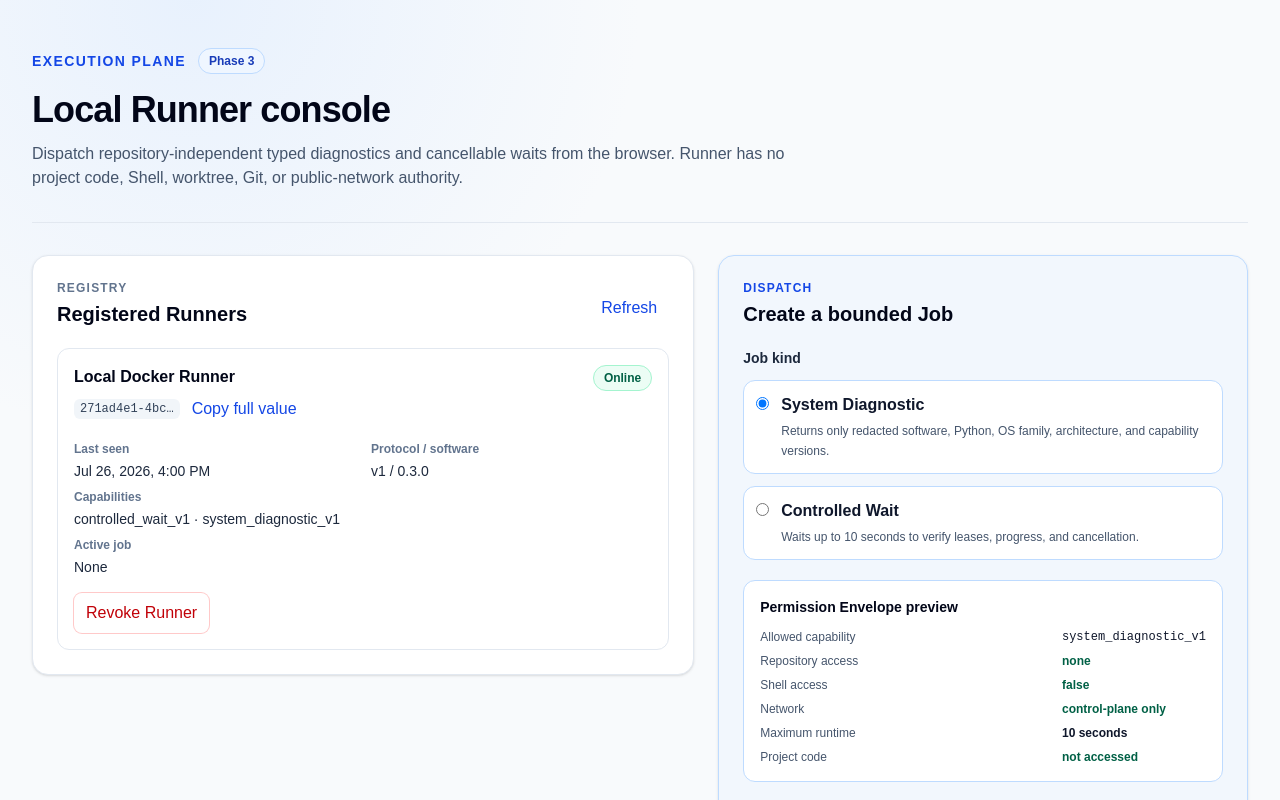
RunnerConsole › revokes a runner and renders the terminal registry state
Click the button "Revoke Runner" at point(142, 613), box [74,593,209,633]
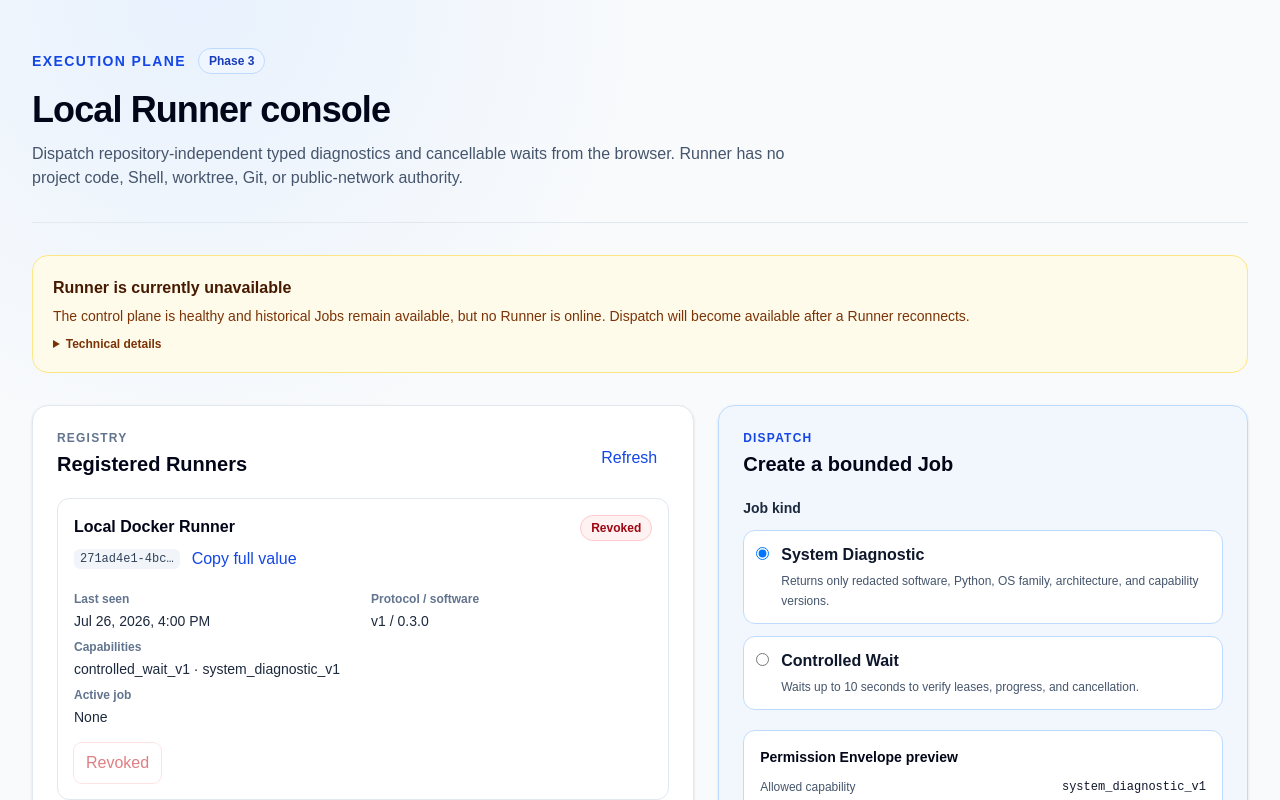
Expected: the button "Revoked" is disabled, [74,743,161,783]
